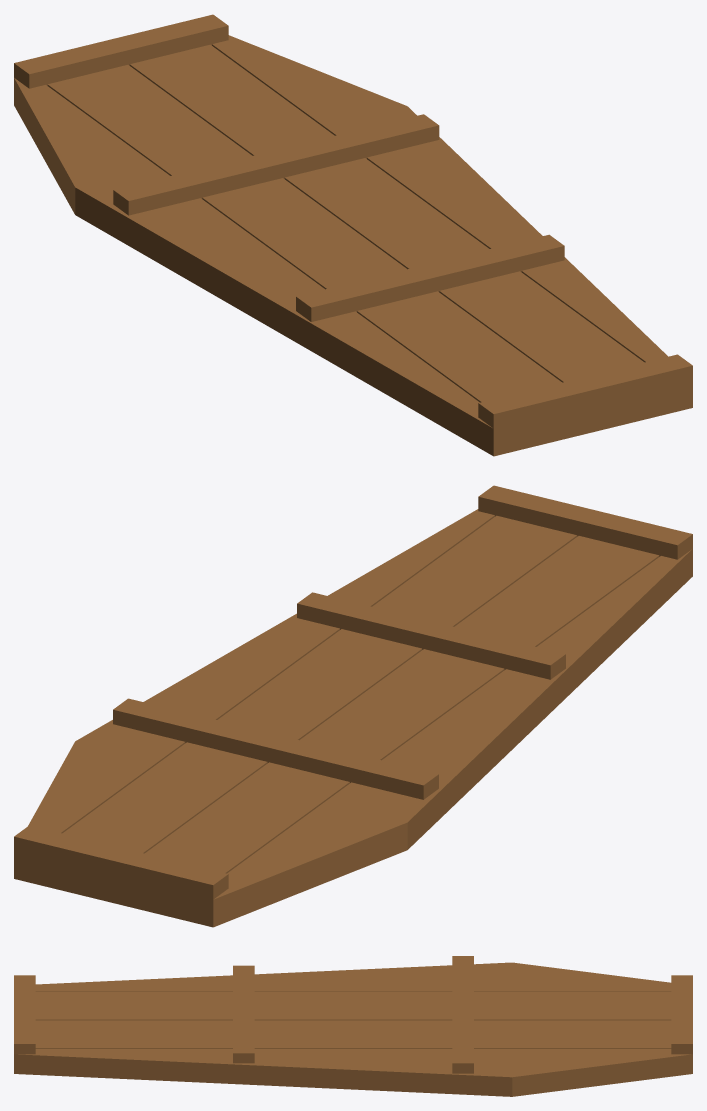
The model's file is Casket_Timber_Lid_01.fbx.
3 views of the same model, one above another, from view 1: azimuth 30°, elevation 25°; view 2: azimuth 150°, elevation 25°; view 3: azimuth 270°, elevation 25° (orthographic). The views are drawn at different scales.
Parts seen in each view (by area): view 1: Model; view 2: Model; view 3: Model.
Part boxes in pixels (x1,y1,x2,y2): Model: (14, 14, 692, 456); Model: (14, 485, 692, 927); Model: (14, 956, 692, 1096).
Size of the model in its own units: 413 by 50.23 by 1033.
